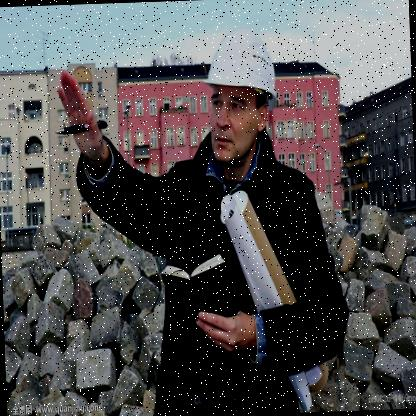capacete: (202, 26, 282, 166)
sem_colete_refletivo: (144, 146, 353, 415)
